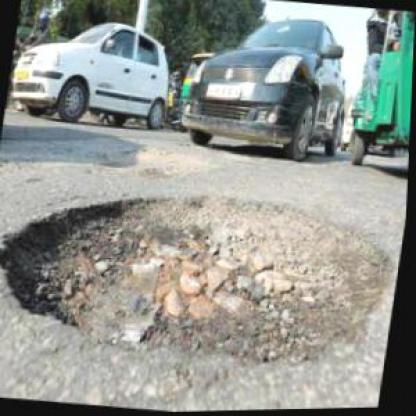pothole: (0, 166, 409, 387), (118, 140, 211, 184)
